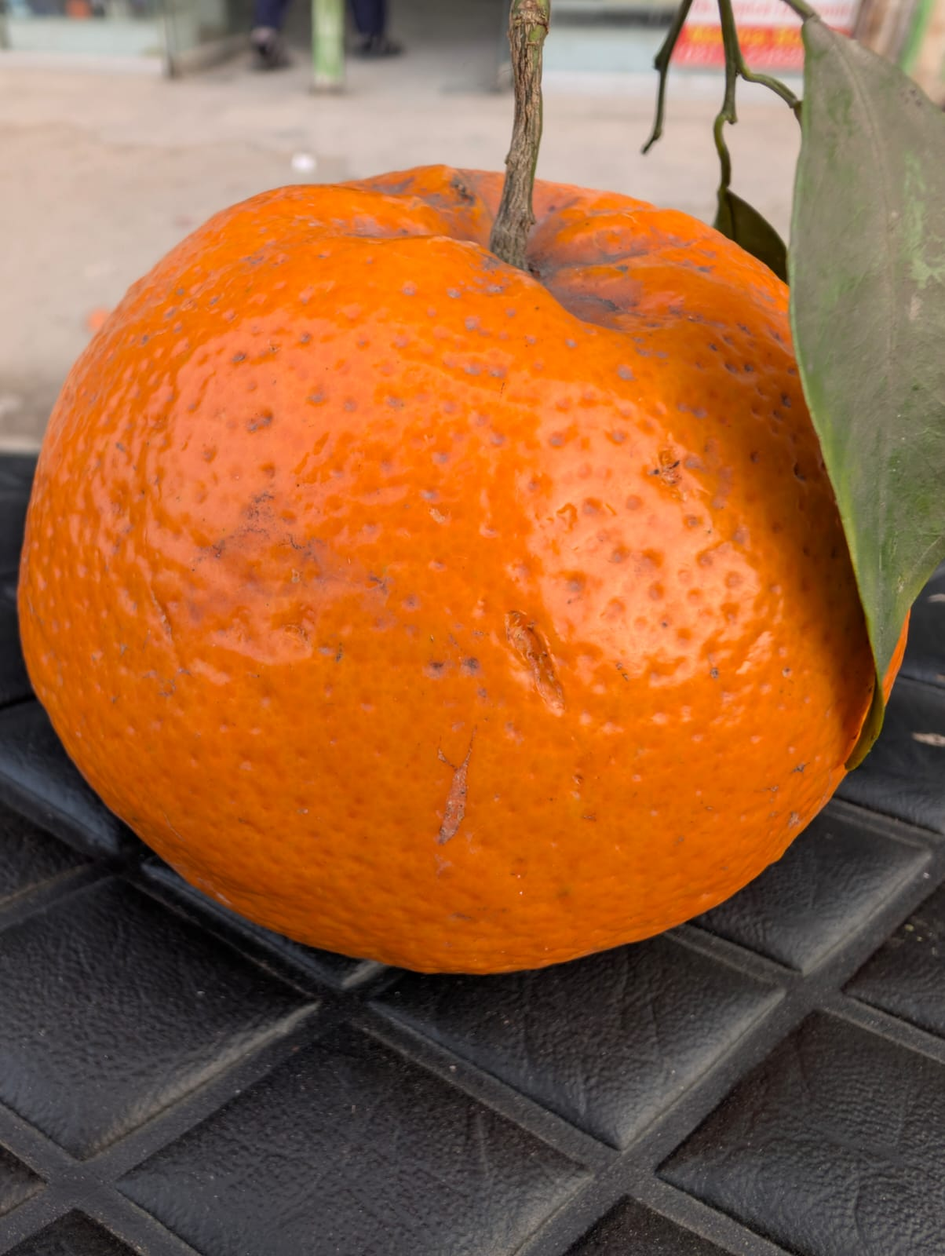orange: (241, 112, 880, 1160)
